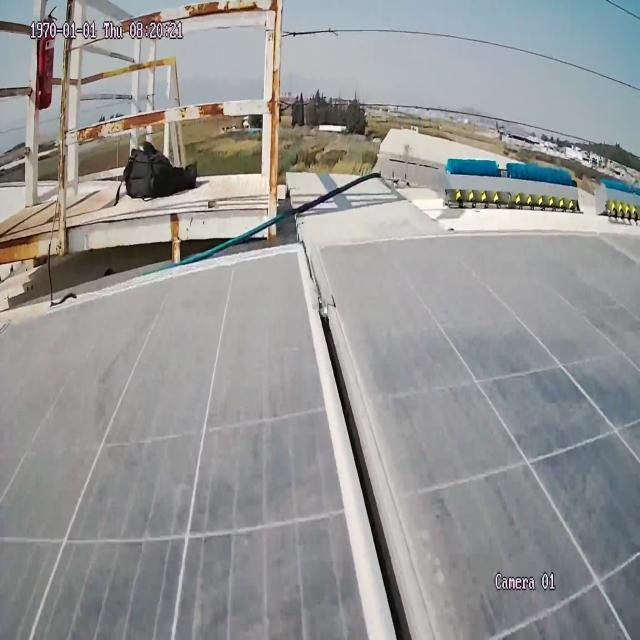interior panel: (258, 240, 483, 640)
